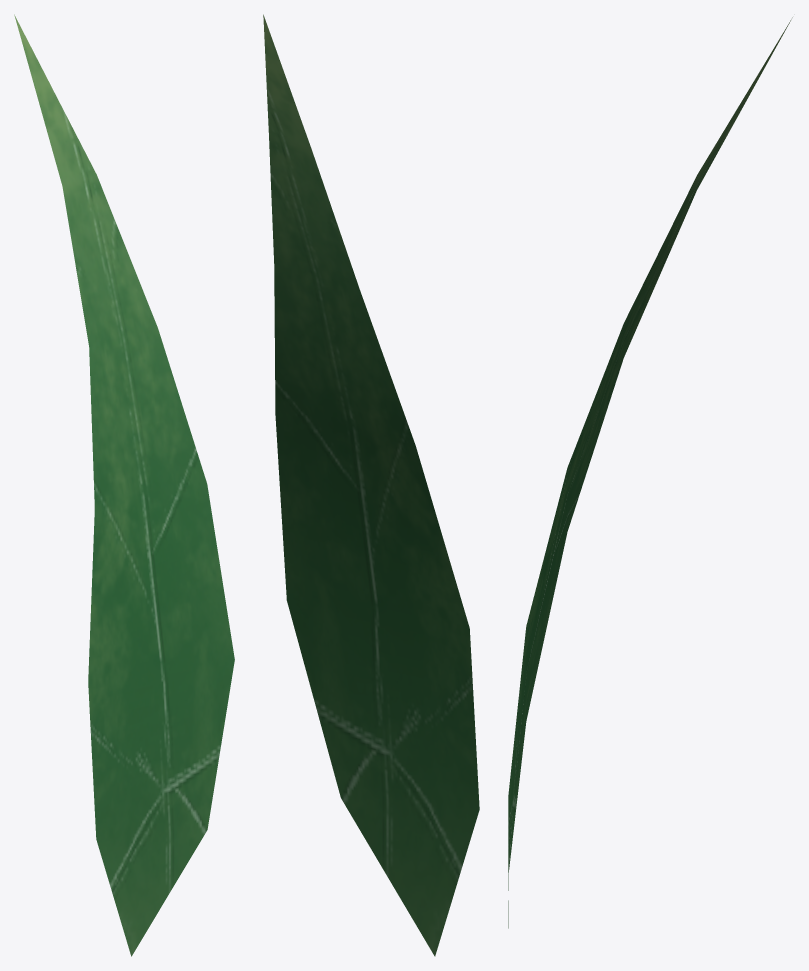
Rendered from SM_GrassBlade.fbx.
3 views of the same model, side by side, from view 1: azimuth 30°, elevation 25°; view 2: azimuth 150°, elevation 25°; view 3: azimuth 270°, elevation 25° (orthographic). The views are drawn at different scales.
Parts seen in each view (by area): view 1: SM_GrassBlade; view 2: SM_GrassBlade; view 3: SM_GrassBlade.
Part boxes in pixels (<box>): SM_GrassBlade: <box>14,14,234,956</box>; SM_GrassBlade: <box>263,14,479,956</box>; SM_GrassBlade: <box>508,17,792,928</box>.
Size of the model in its own units: 1.76 by 2.66 by 9.72.
